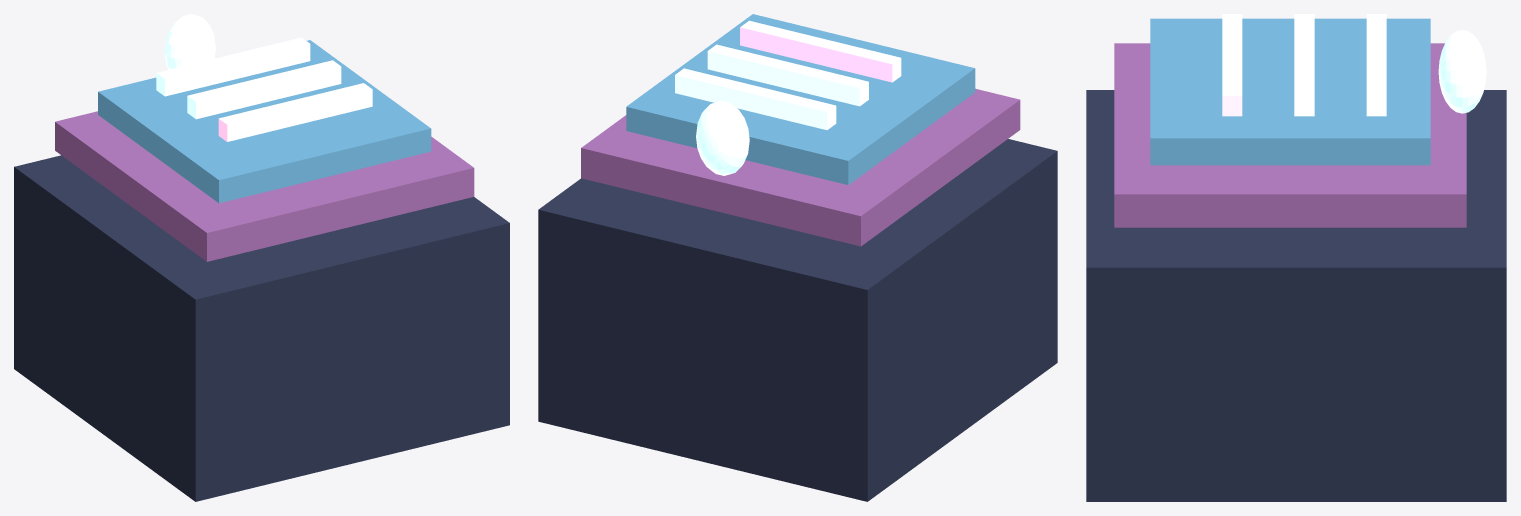
The model's file is ObservatoryExit_v09.glb.
3 views of the same model, side by side, from view 1: azimuth 30°, elevation 25°; view 2: azimuth 150°, elevation 25°; view 3: azimuth 270°, elevation 25° (orthographic). The views are drawn at different scales.
Parts seen in each view (by area): view 1: ObservatoryExit; view 2: ObservatoryExit; view 3: ObservatoryExit.
Part boxes in pixels (box(x1,y1,x2,y2)): ObservatoryExit: box(14, 14, 509, 501); ObservatoryExit: box(538, 14, 1057, 501); ObservatoryExit: box(1086, 14, 1506, 501).
Bounding box in the file's own units: 1 × 1 × 1.
